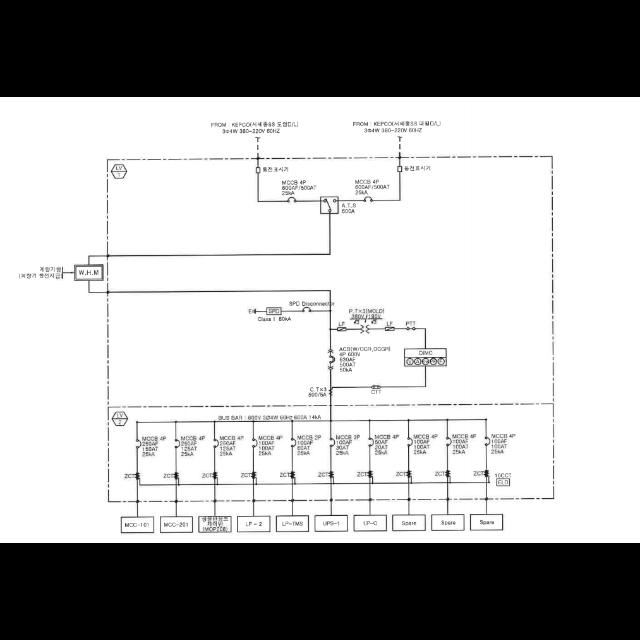A: (414, 358, 422, 366)
ACB: (329, 356, 335, 364)
CT: (328, 388, 334, 396)
MCCB: (368, 438, 374, 448), (363, 196, 372, 202), (135, 439, 141, 448), (174, 439, 180, 448), (252, 439, 258, 448), (446, 438, 452, 447), (484, 438, 490, 447), (288, 197, 296, 203), (303, 306, 311, 312), (292, 438, 296, 448), (330, 438, 334, 448), (408, 438, 412, 448), (214, 439, 218, 448)
PF2: (385, 327, 395, 331), (338, 327, 347, 331)
PT: (360, 324, 370, 334)
V: (406, 358, 414, 366)
ZCT: (484, 470, 490, 478), (444, 470, 450, 478), (406, 470, 412, 478), (328, 471, 334, 479), (289, 472, 295, 480), (212, 472, 218, 480), (134, 473, 140, 481), (367, 472, 373, 478), (251, 472, 257, 478), (174, 474, 178, 481)
